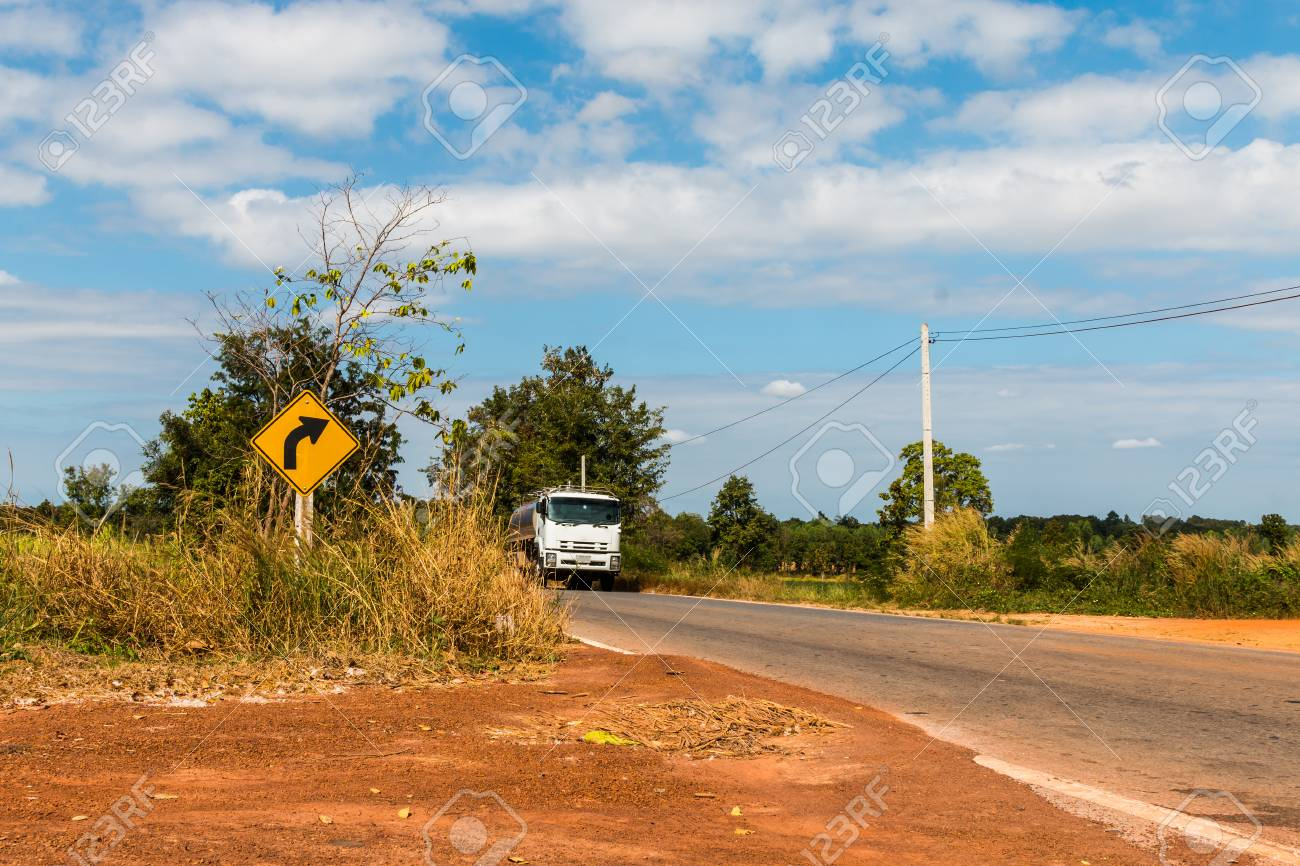right: (251, 388, 362, 502)
